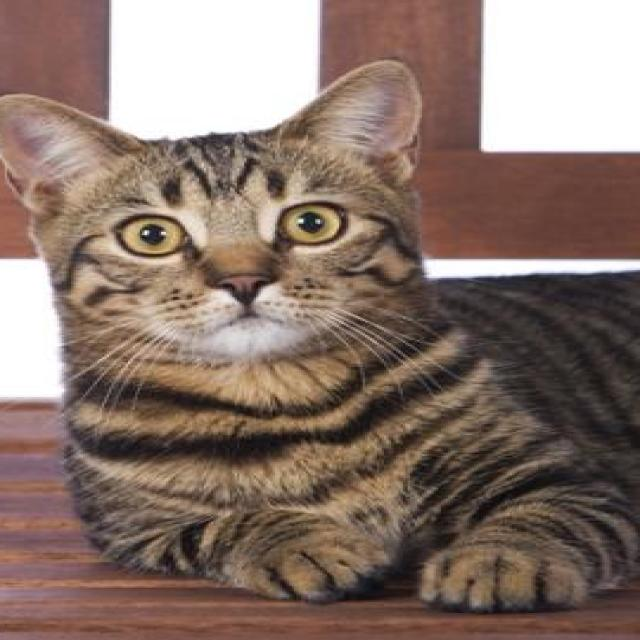Toyger: (0, 52, 640, 620)
